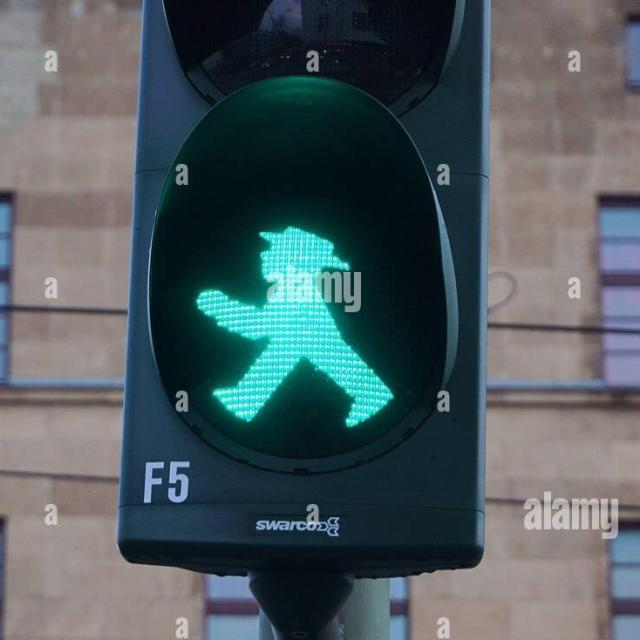green_light: (190, 210, 394, 432)
